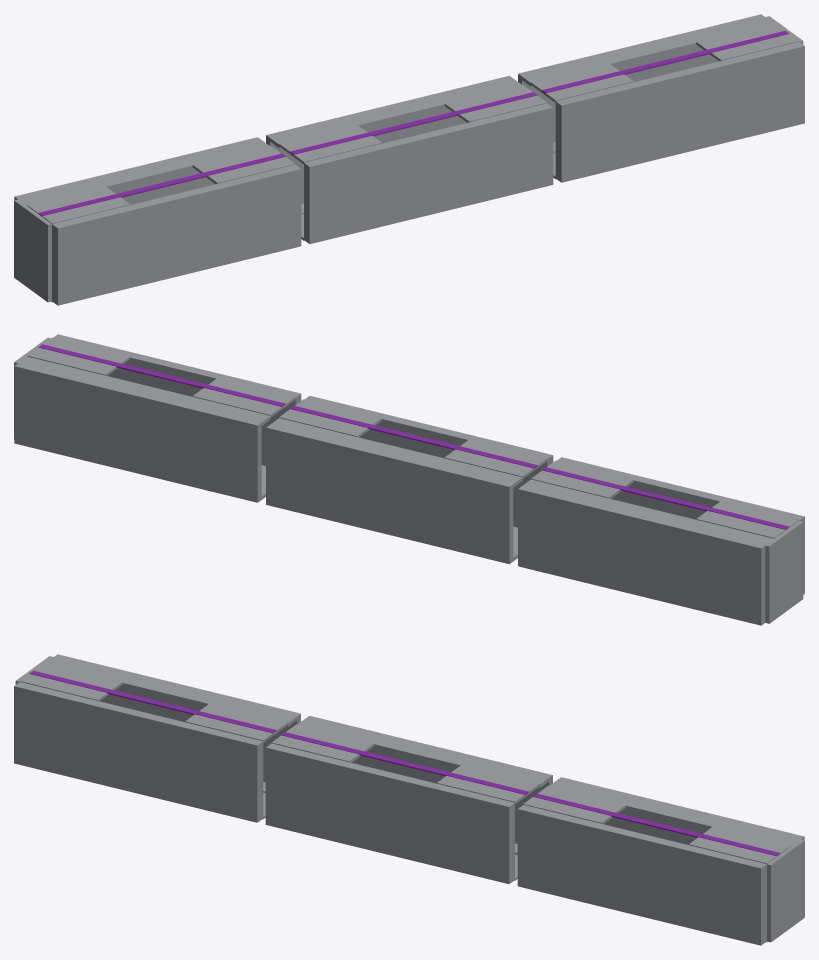
The model's file is metro_train_lilac_open.obj.
The picture shows the model from 3 angles, top to bottom: view 1: azimuth 30°, elevation 25°; view 2: azimuth 150°, elevation 25°; view 3: azimuth 330°, elevation 25°; orthographic projection.
Visible parts, largest first — view 1: metro_train_lilac_open; view 2: metro_train_lilac_open; view 3: metro_train_lilac_open.
Part boxes in pixels (x1,y1,x2,y2): metro_train_lilac_open: (14,14,804,305); metro_train_lilac_open: (14,334,804,625); metro_train_lilac_open: (14,654,804,945).
Size of the model in its own units: 9 by 0.91 by 0.9.
